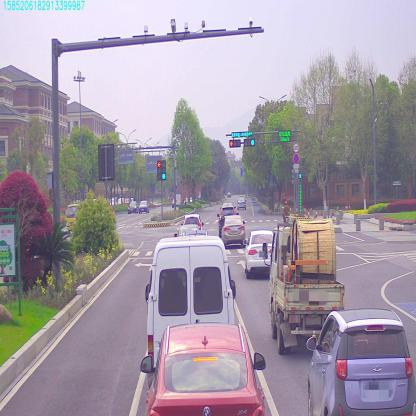traffic-light: (228, 140, 242, 148), (244, 138, 255, 148), (231, 133, 253, 137)
